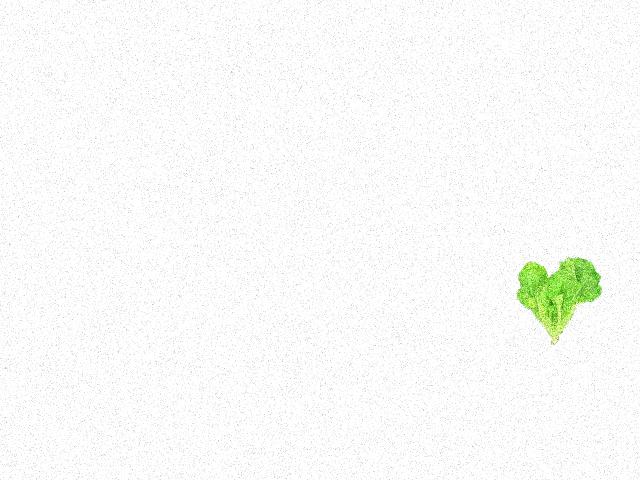lettuce: (513, 252, 606, 347)
